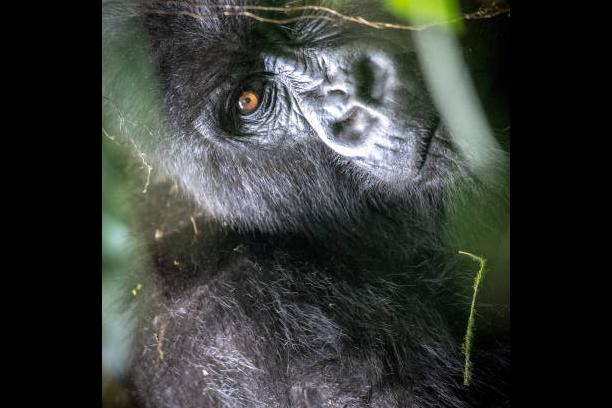goriile_montagne: (109, 0, 510, 408)
